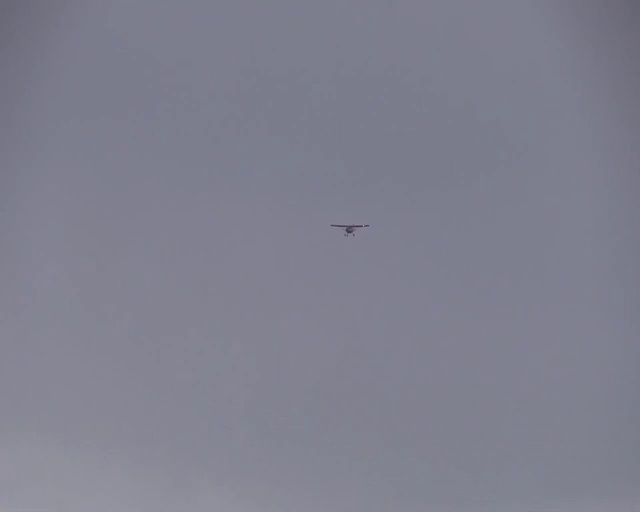AIRPLANE: (330, 222, 370, 237)
